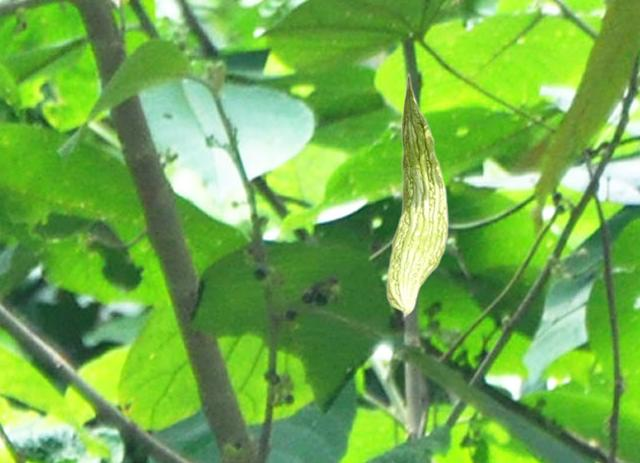ampalaya: (386, 72, 451, 318)
